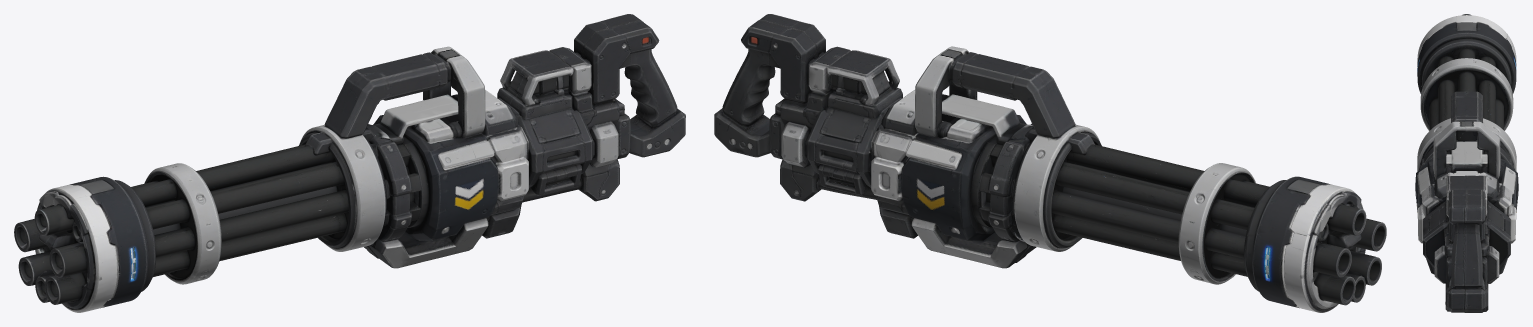
File: Meshy_AI_Titan_Vulcan_Cannon_1011171957_texture.glb
3 views of the same model, side by side, from view 1: azimuth 30°, elevation 25°; view 2: azimuth 150°, elevation 25°; view 3: azimuth 270°, elevation 25° (orthographic). The views are drawn at different scales.
Bounding box in the file's own units: 1.9 × 0.5339 × 0.3439.
1 material, 1 textured.
